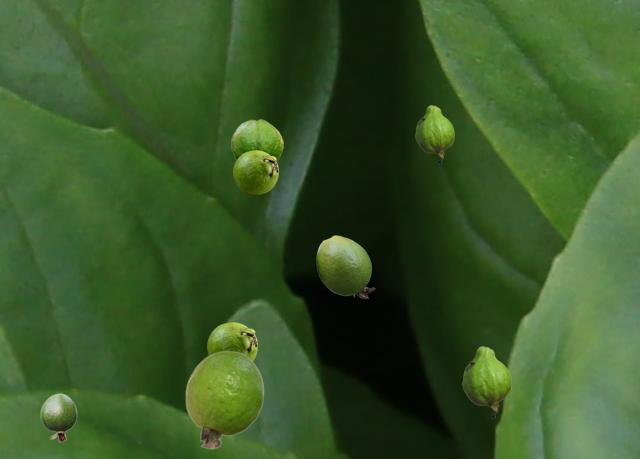guava: (185, 350, 263, 448), (316, 235, 374, 297), (462, 346, 510, 417), (415, 105, 453, 162), (231, 119, 282, 160), (233, 150, 277, 193), (207, 322, 256, 360), (40, 393, 76, 441)
